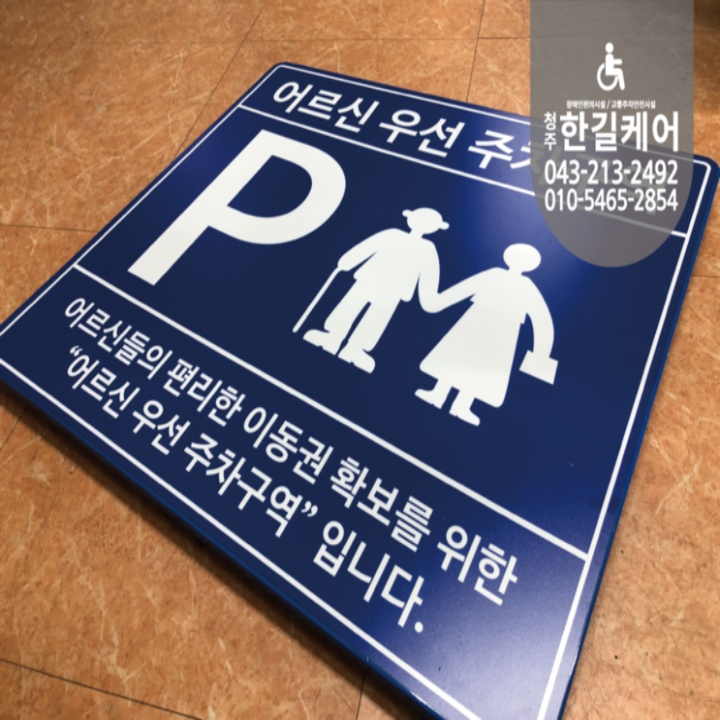park: (124, 118, 348, 309)
